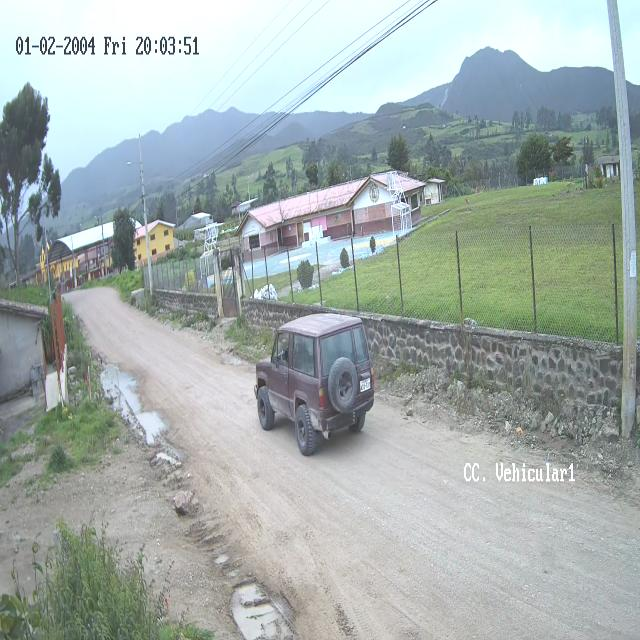SUV: (255, 314, 374, 458)
